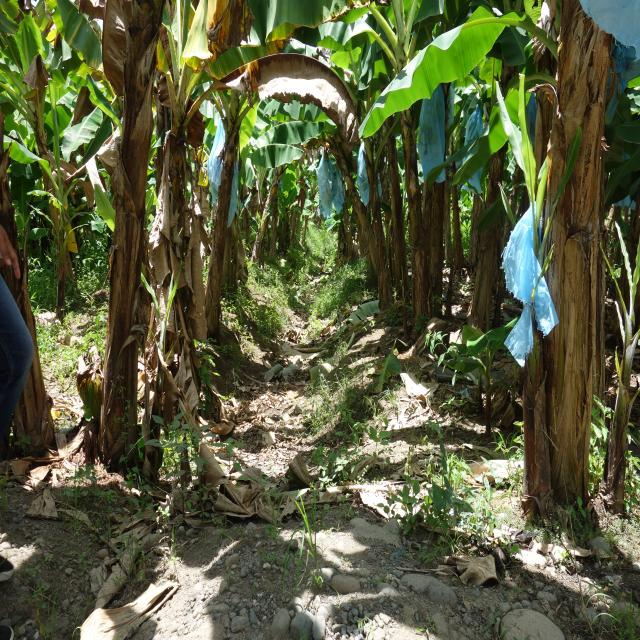Banana-plant: (514, 0, 620, 515), (85, 0, 156, 454), (153, 0, 206, 420), (198, 51, 250, 347), (381, 0, 427, 326)
